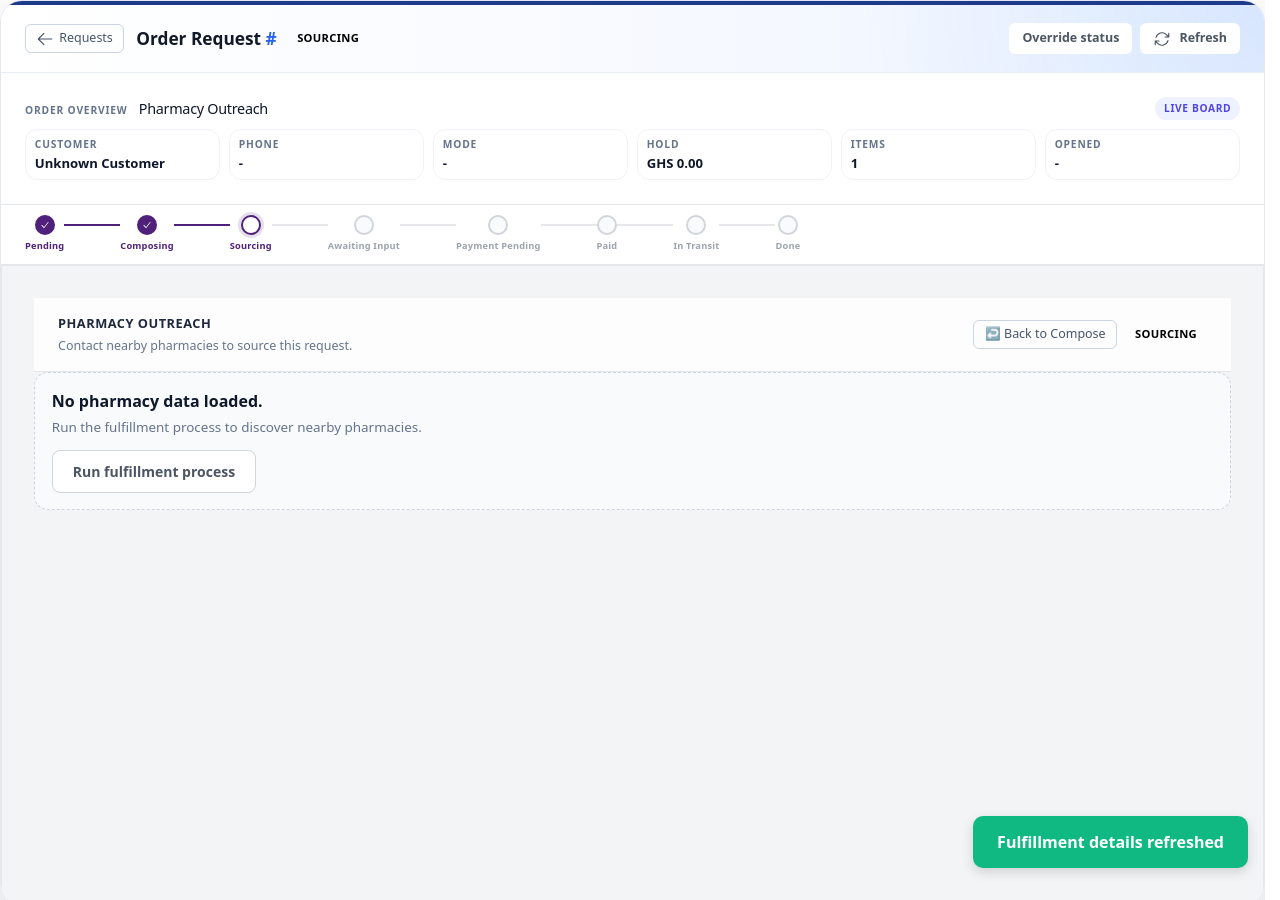
Test: status override › says so when the server refuses the change
The image size is (1280, 900).
Click the button "Override status" at (1071, 39), box left=1009, top=23, right=1132, bottom=54
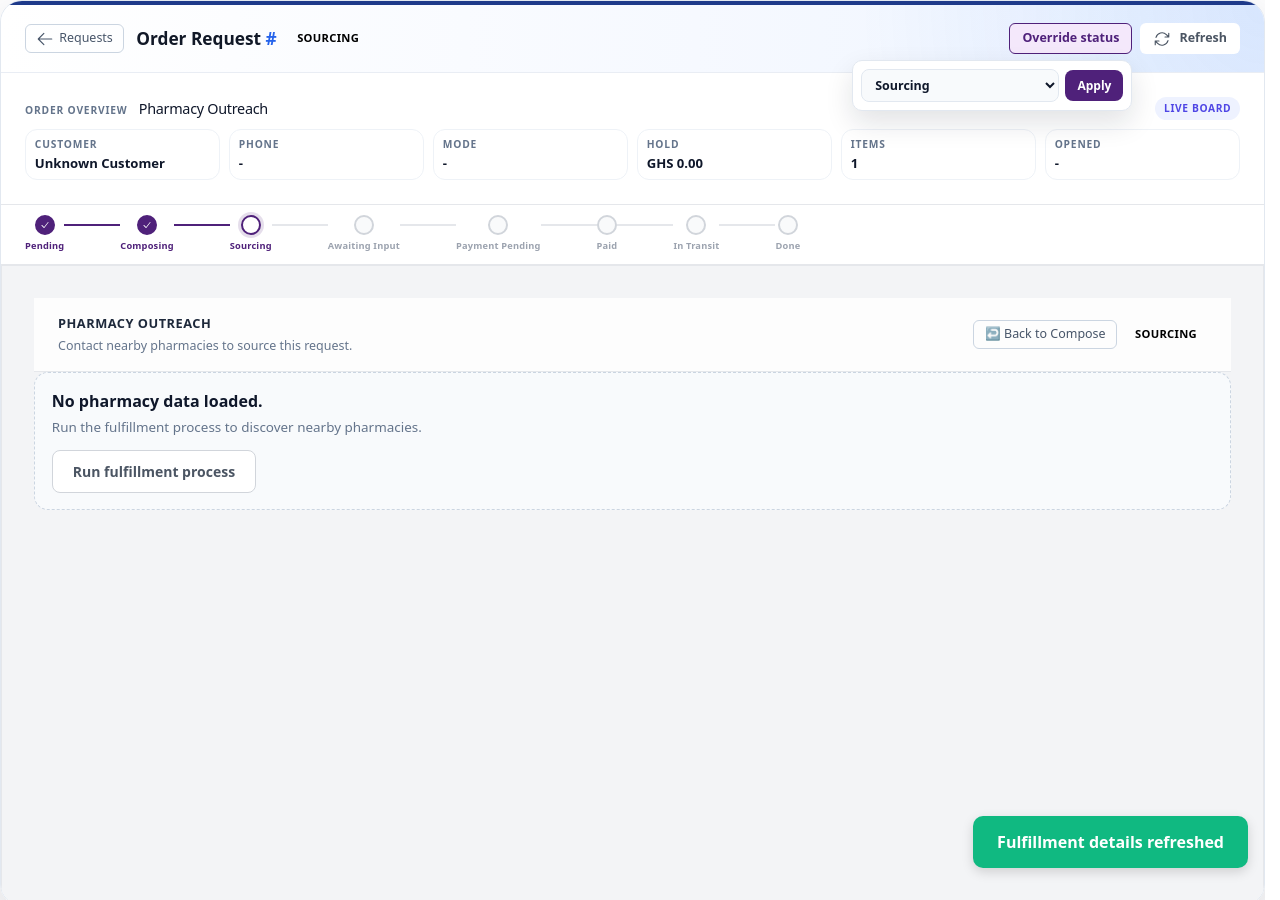
Select "Cancelled" in the dropdown with class "header-status-override-select" at (960, 86), box left=861, top=69, right=1059, bottom=102
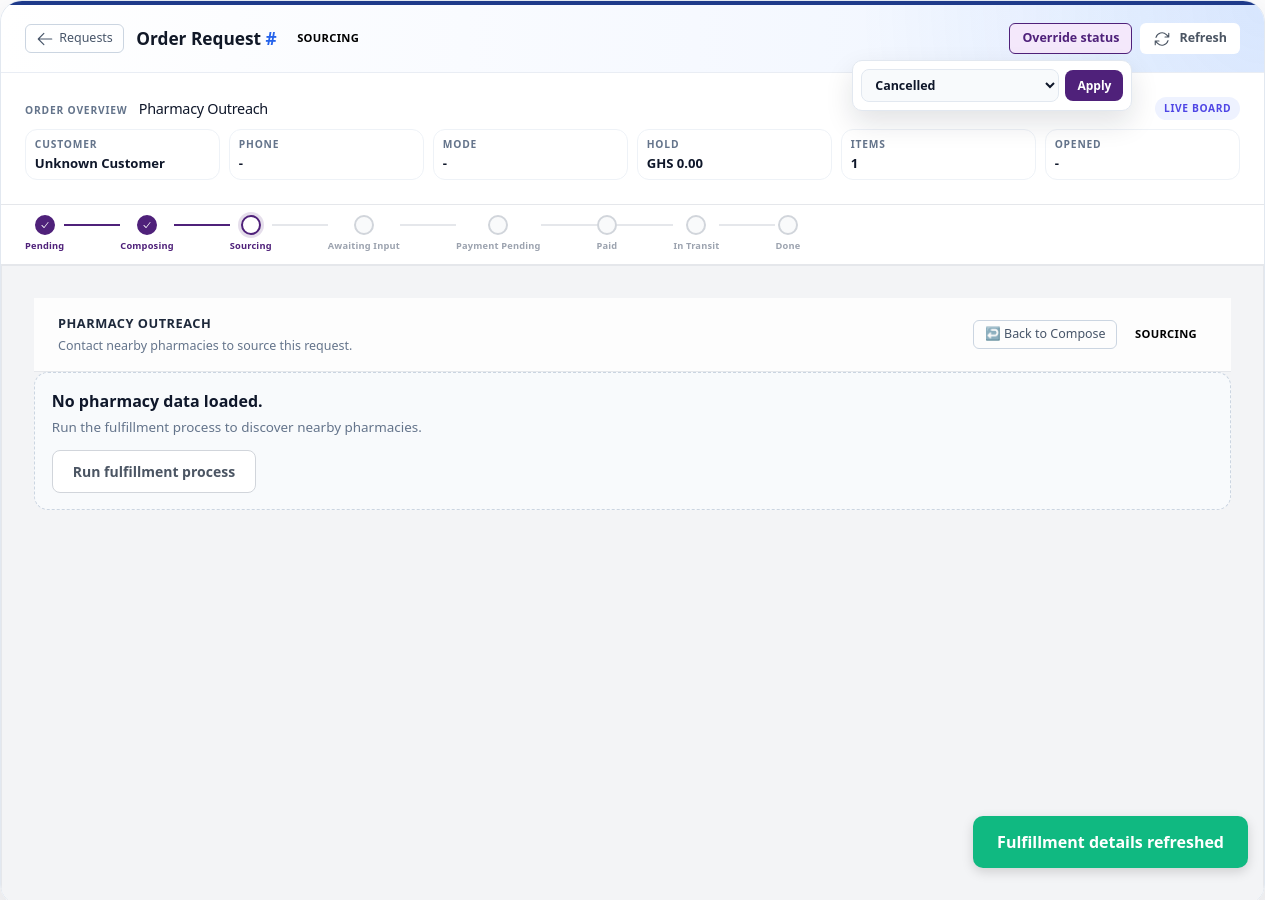
Click the button with class "header-status-override-apply" at (1094, 86), box left=1065, top=70, right=1123, bottom=101
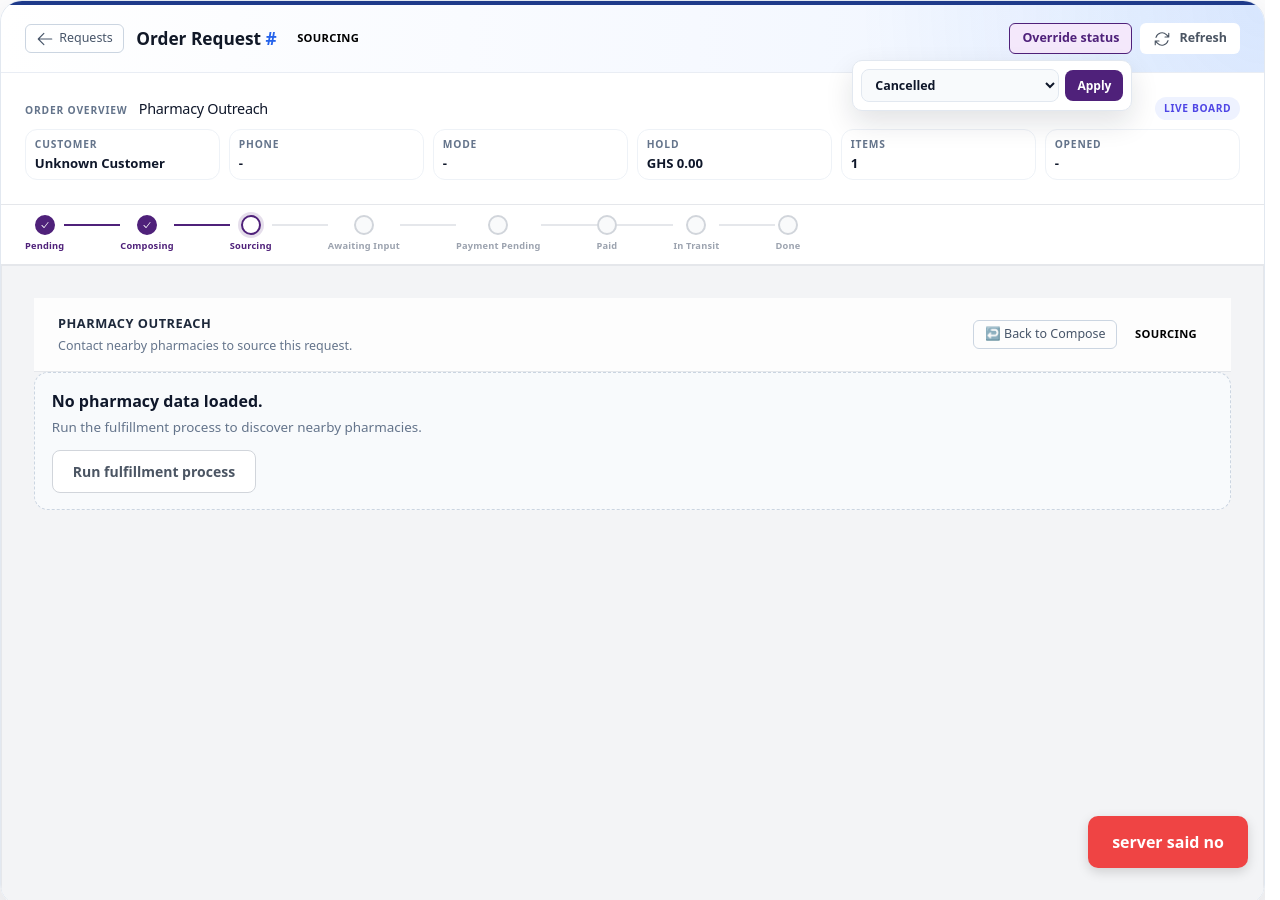
Expected: the text "server said no" is shown, left=1088, top=816, right=1248, bottom=868
